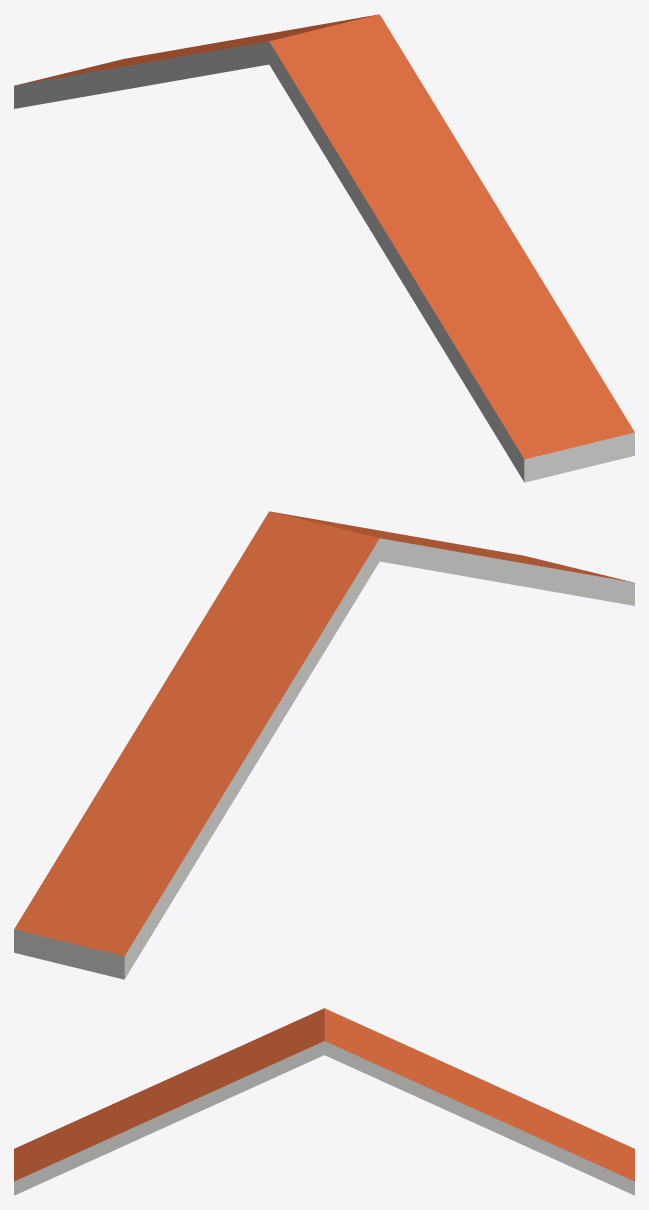
Rendered from telhado_duas_aguas_v4_i50_0_5m.glb.
3 renders of one model, top to bottom at view 1: azimuth 30°, elevation 25°; view 2: azimuth 150°, elevation 25°; view 3: azimuth 270°, elevation 25°, orthographic. The views are drawn at different scales.
Parts seen in each view (by area): view 1: telhado_duas_aguas_v4_i50_0_5m; view 2: telhado_duas_aguas_v4_i50_0_5m; view 3: telhado_duas_aguas_v4_i50_0_5m.
Part boxes in pixels (x1,y1,x2,y2): telhado_duas_aguas_v4_i50_0_5m: (14, 14, 634, 482); telhado_duas_aguas_v4_i50_0_5m: (14, 511, 634, 979); telhado_duas_aguas_v4_i50_0_5m: (14, 1008, 634, 1195).
Size of the model in its own units: 0.5 by 1.1 by 4.
